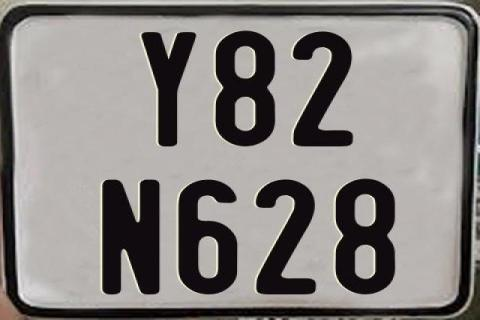0: (214, 30, 280, 150), (291, 32, 355, 150), (333, 177, 398, 293), (256, 177, 320, 293), (176, 177, 236, 296)
N: (99, 180, 158, 298)
Y: (141, 32, 198, 150)
